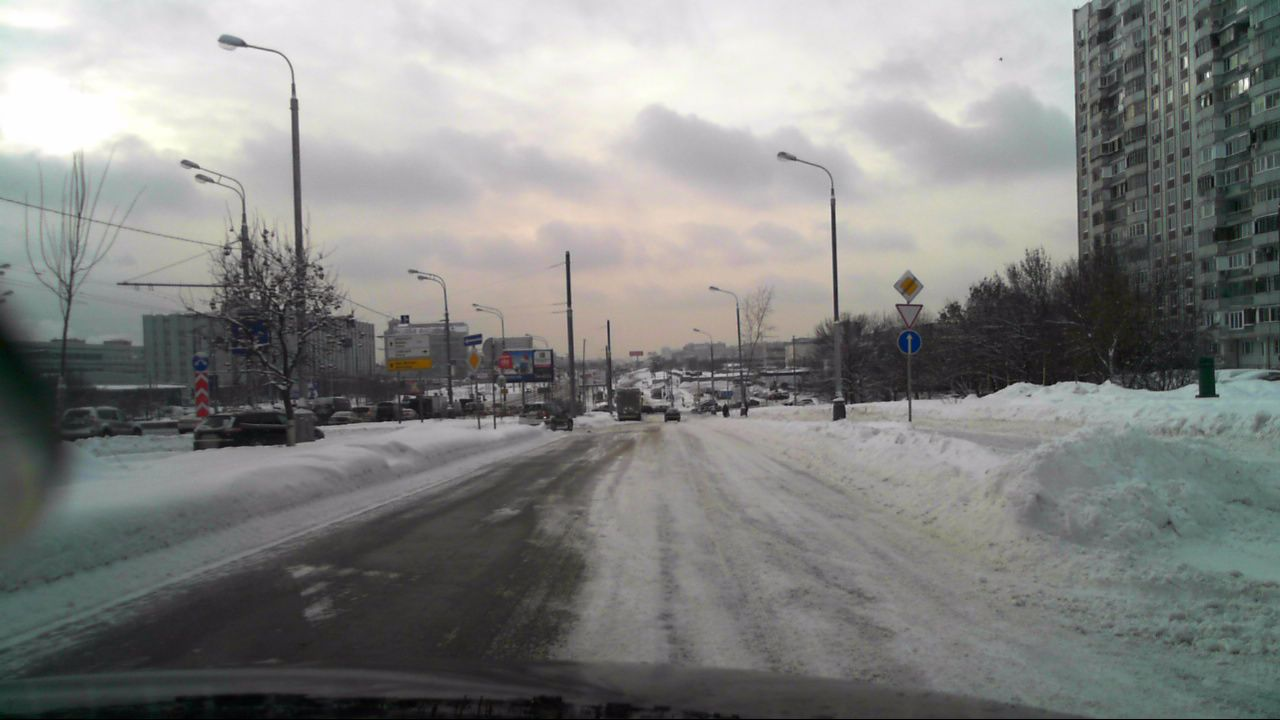main road: (893, 269, 924, 303)
